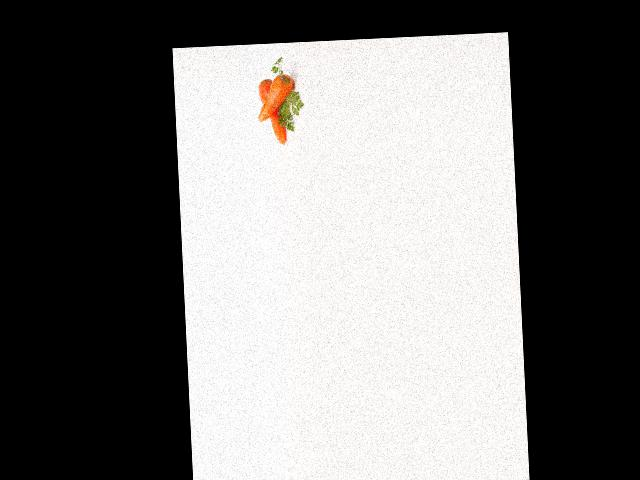carrot: (257, 77, 287, 146)
